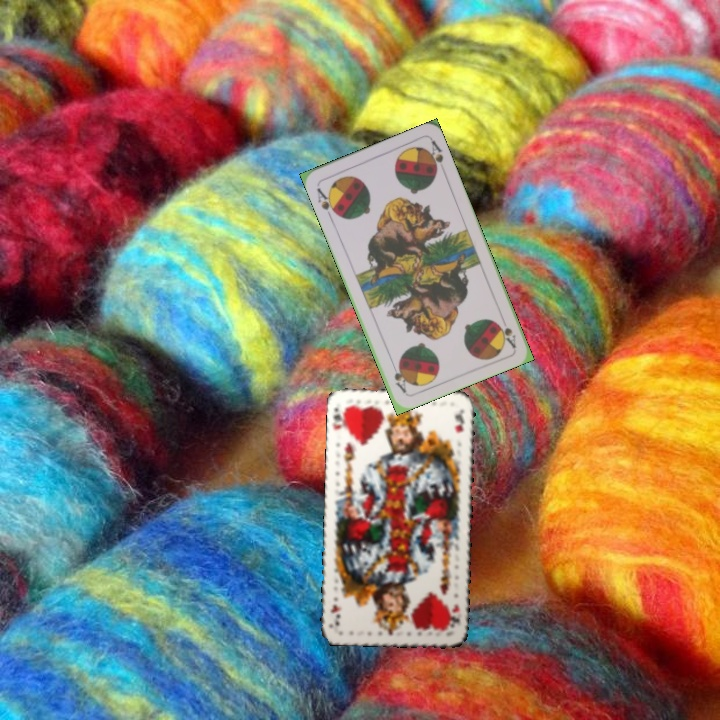HK: (329, 401, 350, 433), (444, 600, 462, 632)
SA: (312, 183, 340, 221), (494, 311, 518, 351)
